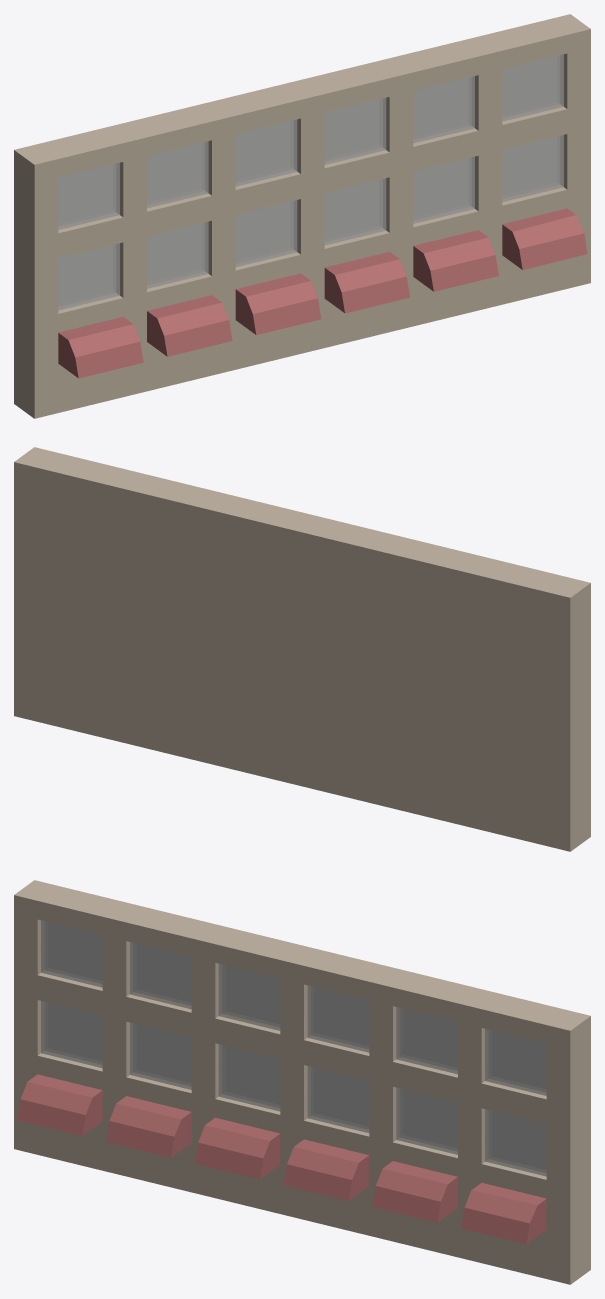
File: thinktank-building.fbx
3 renders of one model, top to bottom at view 1: azimuth 30°, elevation 25°; view 2: azimuth 150°, elevation 25°; view 3: azimuth 330°, elevation 25°, orthographic.
Visible parts, largest first — view 1: building, windows, awnings; view 2: building; view 3: building, windows, awnings.
Boxes of the visible parts, x1,y1,x2,y2 form: building: (14, 14, 590, 418); windows: (58, 54, 563, 310); awnings: (58, 208, 587, 378); building: (14, 447, 590, 851); building: (14, 880, 590, 1284); windows: (41, 920, 546, 1176); awnings: (17, 1074, 546, 1244).
Bounding box in the file's own units: 235 × 30 × 102.
